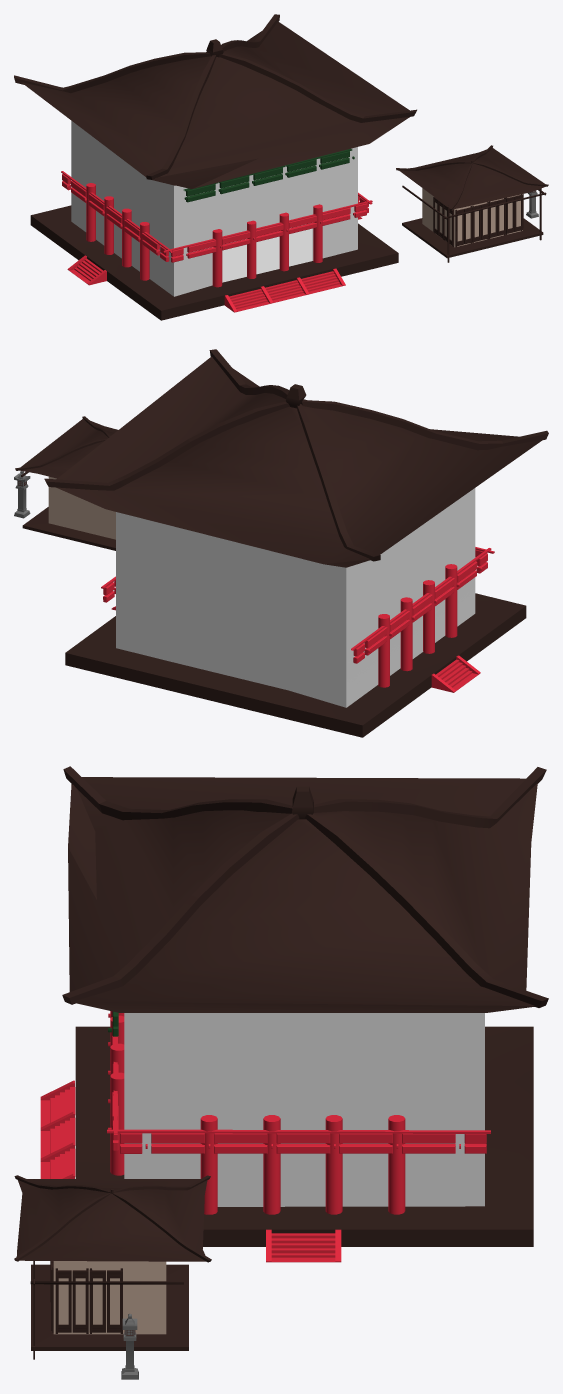
File: modelos ninja semana 5 - luana.fbx
3 views of the same model, one above another, from view 1: azimuth 30°, elevation 25°; view 2: azimuth 150°, elevation 25°; view 3: azimuth 270°, elevation 25° (orthographic). The views are drawn at different scales.
Visible parts, largest first — view 1: templo, casa de chá; view 2: templo, casa de chá, lanterna de pedra; view 3: templo, casa de chá, lanterna de pedra.
Boxes of the visible parts, box(x1,y1,x2,y2) form: templo: box(14, 14, 416, 320); casa de chá: box(396, 145, 548, 262); templo: box(44, 349, 548, 737); casa de chá: box(15, 416, 117, 550); lanterna de pedra: box(14, 471, 30, 518); templo: box(40, 766, 548, 1262); casa de chá: box(14, 1175, 211, 1359); lanterna de pedra: box(121, 1314, 138, 1379).
Bounding box in the file's own units: 8559 × 4078 × 5529.
